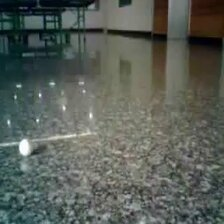w: (18, 137, 33, 156)
